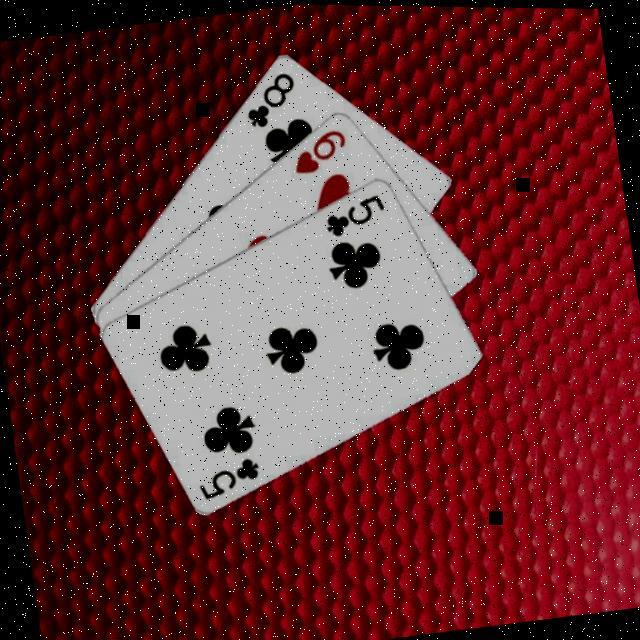5C: (192, 450, 265, 502), (319, 187, 390, 239)
6H: (285, 121, 352, 176)
8C: (237, 64, 303, 131)
